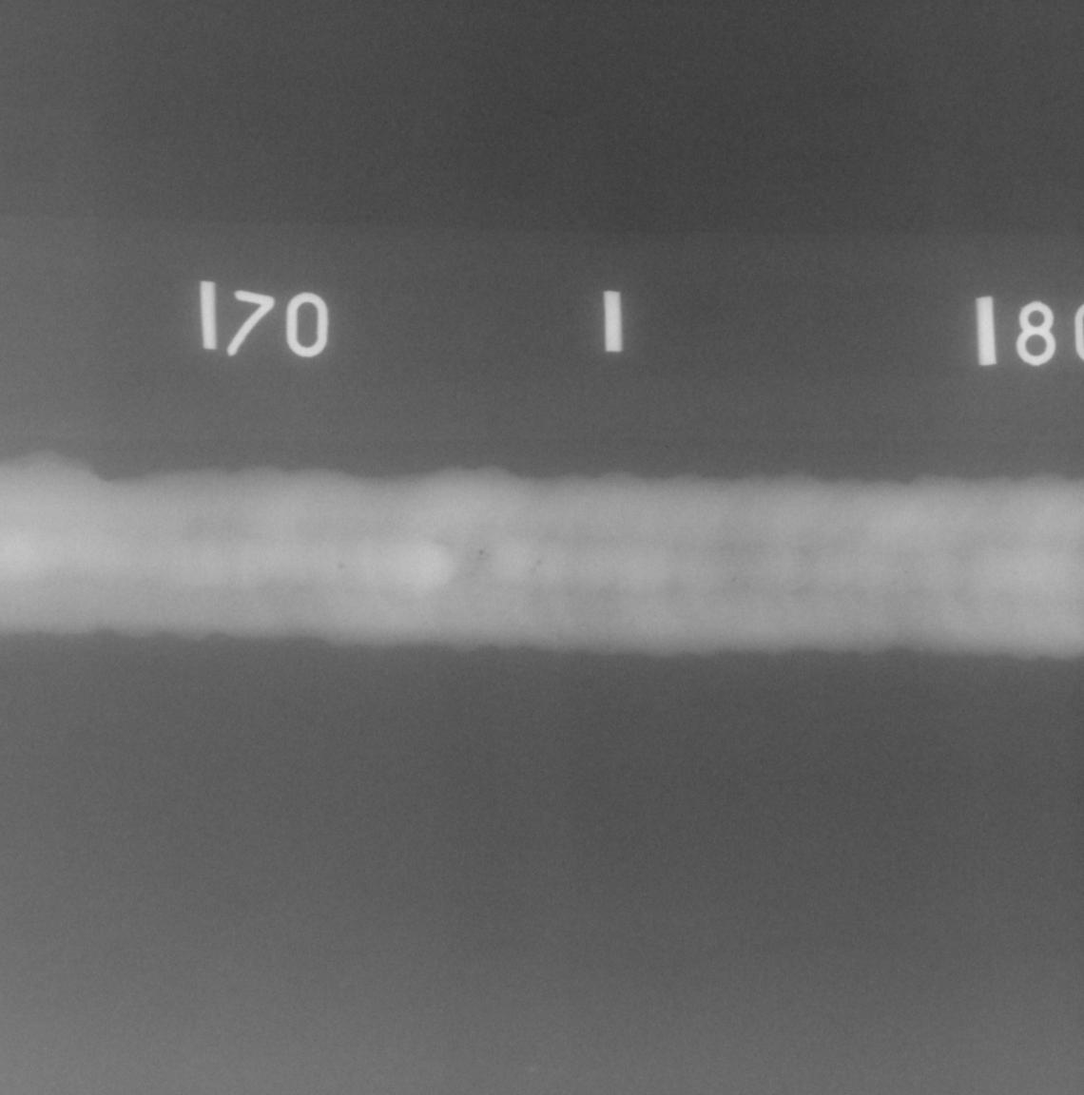Pore/Porosity: (479, 550, 484, 555), (536, 561, 541, 566), (903, 570, 908, 575), (338, 564, 342, 569), (477, 557, 481, 561), (1013, 571, 1017, 575), (731, 579, 736, 582), (487, 554, 490, 557)
